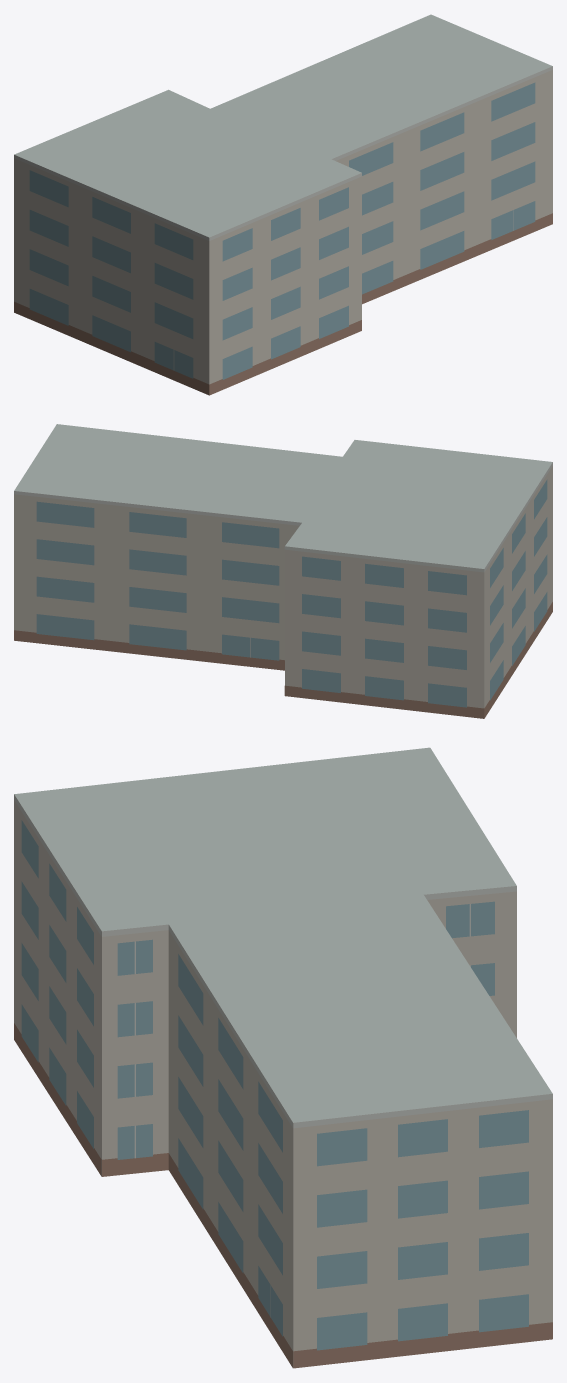
File: survey-upis-32869543.glb
3 views of the same model, one above another, from view 1: azimuth 30°, elevation 25°; view 2: azimuth 150°, elevation 25°; view 3: azimuth 270°, elevation 25° (orthographic). The views are drawn at different scales.
Visible parts, largest first — view 1: survey-upis-32869543.tmp; view 2: survey-upis-32869543.tmp; view 3: survey-upis-32869543.tmp.
Boxes of the visible parts, x1,y1,x2,y2 form: survey-upis-32869543.tmp: [14, 14, 552, 395]; survey-upis-32869543.tmp: [14, 424, 552, 718]; survey-upis-32869543.tmp: [14, 747, 552, 1368].
Bounding box in the file's own units: 35.41 × 10.8 × 21.48.
